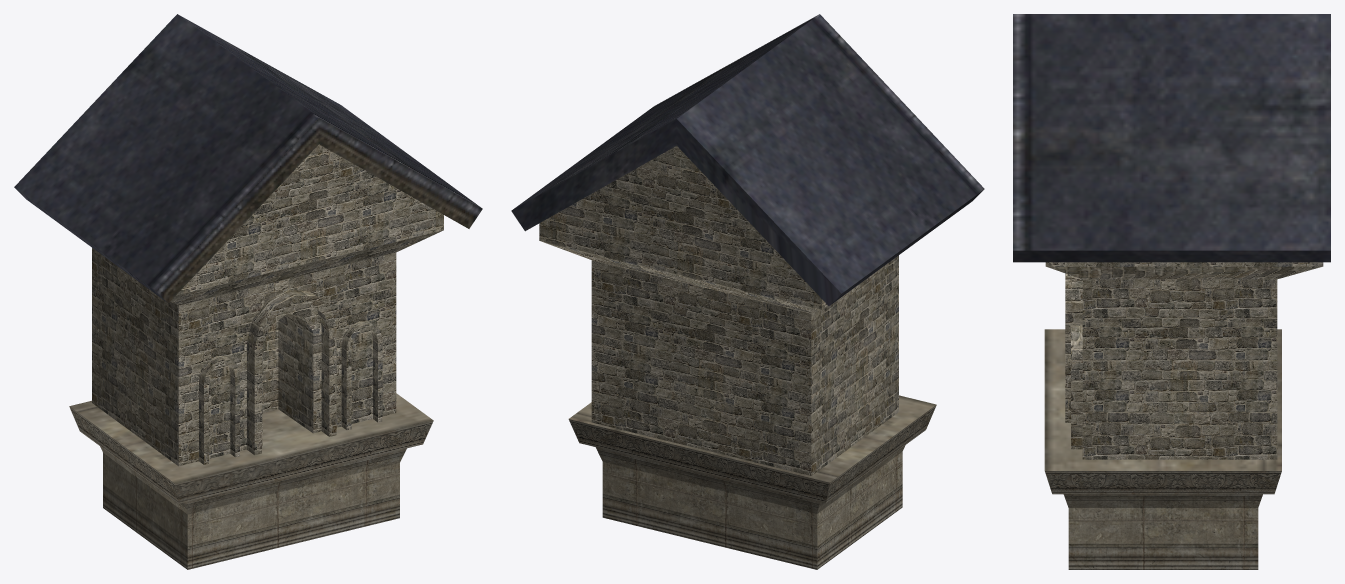
File: SM_EN_2005_jianzhu05.FBX
3 views of the same model, side by side, from view 1: azimuth 30°, elevation 25°; view 2: azimuth 150°, elevation 25°; view 3: azimuth 270°, elevation 25° (orthographic). The views are drawn at different scales.
Visible parts, largest first — view 1: SM_EN_2005_jianzhu0502, SM_EN_2005_jianzhu501; view 2: SM_EN_2005_jianzhu0502, SM_EN_2005_jianzhu501; view 3: SM_EN_2005_jianzhu0502, SM_EN_2005_jianzhu501.
Boxes of the visible parts, <box> form: SM_EN_2005_jianzhu0502: <box>14,14,482,569</box>; SM_EN_2005_jianzhu501: <box>92,144,443,466</box>; SM_EN_2005_jianzhu0502: <box>511,14,984,569</box>; SM_EN_2005_jianzhu501: <box>539,145,898,475</box>; SM_EN_2005_jianzhu0502: <box>1013,14,1330,569</box>; SM_EN_2005_jianzhu501: <box>1045,262,1323,459</box>.
Size of the model in its own units: 592 by 768 by 444.
